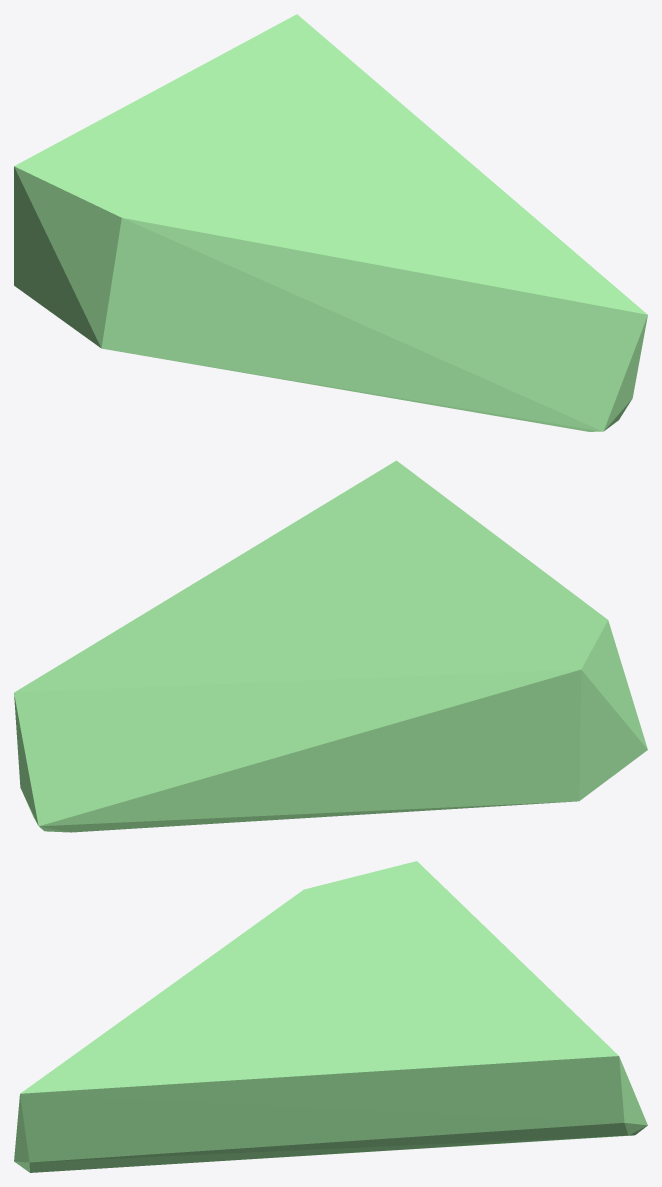
The model's file is UMIRobot_UMIRobot_link_5_convex_coll_21.dae.
3 renders of one model, top to bottom at view 1: azimuth 30°, elevation 25°; view 2: azimuth 150°, elevation 25°; view 3: azimuth 270°, elevation 25°, orthographic. The views are drawn at different scales.
Visible parts, largest first — view 1: node; view 2: node; view 3: node.
Part boxes in pixels (left/top/right/bottom): node: left=14, top=14, right=647, bottom=431; node: left=14, top=460, right=647, bottom=832; node: left=14, top=861, right=647, bottom=1172.
Bounding box in the file's own units: 0.0192 × 0.00869 × 0.0308.
